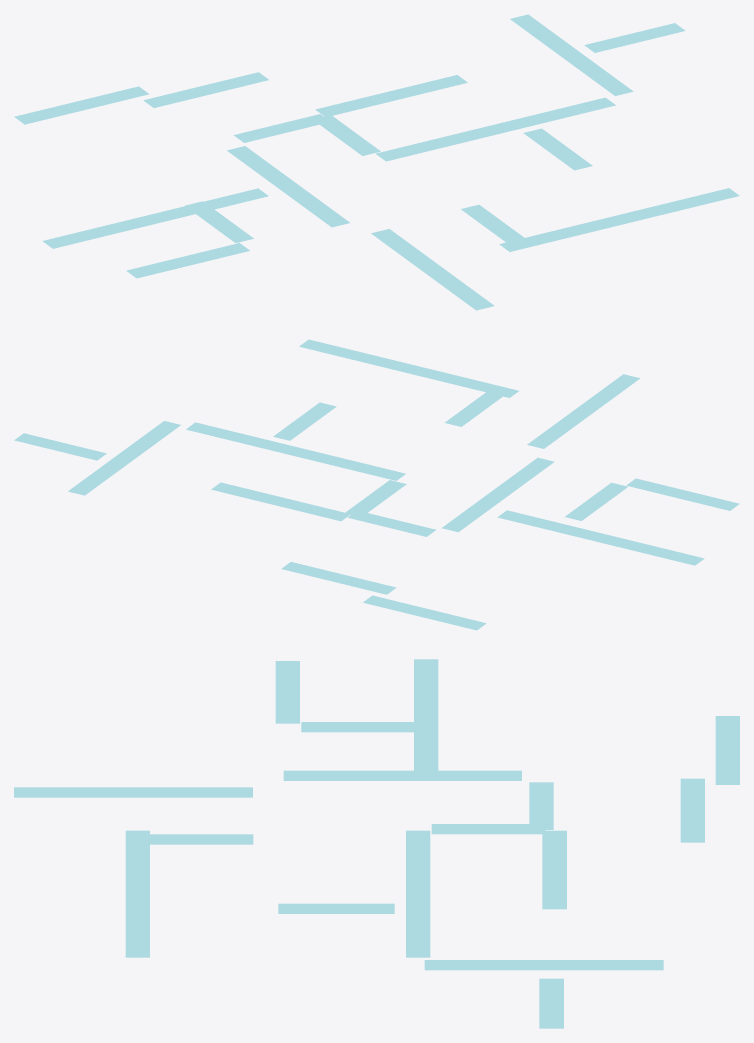
The model's file is data.gltf.
3 views of the same model, one above another, from view 1: azimuth 30°, elevation 25°; view 2: azimuth 150°, elevation 25°; view 3: azimuth 270°, elevation 25° (orthographic). The views are drawn at different scales.
Visible parts, largest first — view 1: Data; view 2: Data; view 3: Data.
Part boxes in pixels (box(x1,y1,x2,y2)): Data: box(14, 14, 739, 310); Data: box(14, 339, 739, 630); Data: box(14, 659, 739, 1028).
Size of the model in its own units: 3174 by 48.38 by 2560.
